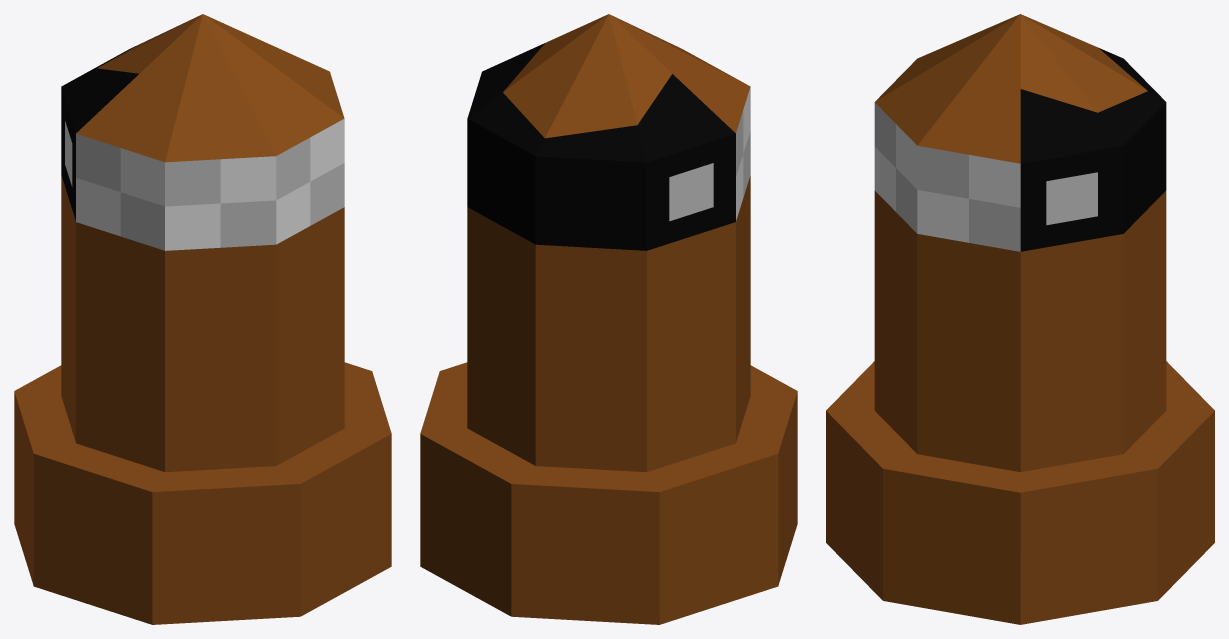
The model's file is Bala enemiga.fbx.
The picture shows the model from 3 angles, left to right: view 1: azimuth 30°, elevation 25°; view 2: azimuth 150°, elevation 25°; view 3: azimuth 270°, elevation 25°; orthographic projection.
Parts seen in each view (by area): view 1: Bala enemiga; view 2: Bala enemiga; view 3: Bala enemiga.
Part boxes in pixels (<box>): Bala enemiga: <box>14,14,391,624</box>; Bala enemiga: <box>420,14,797,624</box>; Bala enemiga: <box>826,14,1214,624</box>.
Bounding box in the file's own units: 200 × 300 × 200.
